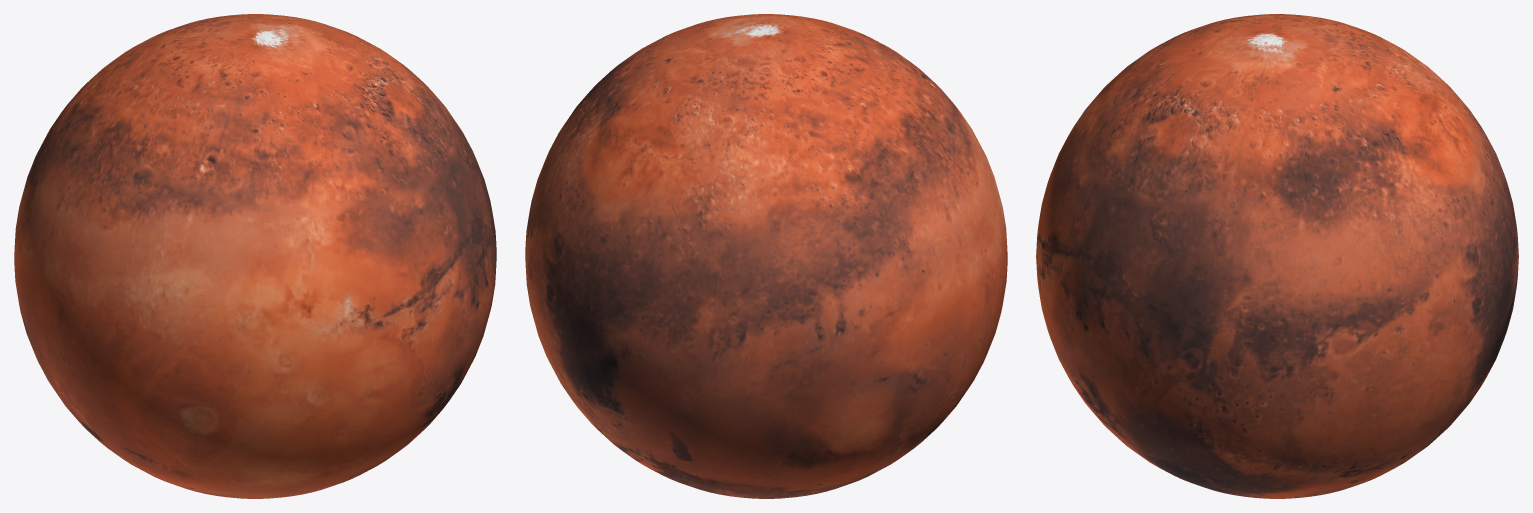
File: mars.glb
3 renders of one model, left to right at view 1: azimuth 30°, elevation 25°; view 2: azimuth 150°, elevation 25°; view 3: azimuth 270°, elevation 25°, orthographic.
Parts seen in each view (by area): view 1: Sphere; view 2: Sphere; view 3: Sphere.
Boxes of the visible parts, left/top/right/bottom form: Sphere: left=14, top=14, right=496, bottom=498; Sphere: left=525, top=14, right=1007, bottom=498; Sphere: left=1036, top=14, right=1518, bottom=498.
Bounding box in the file's own units: 1.97 × 2 × 1.97.
Materials: 1 (1 with a texture image).
